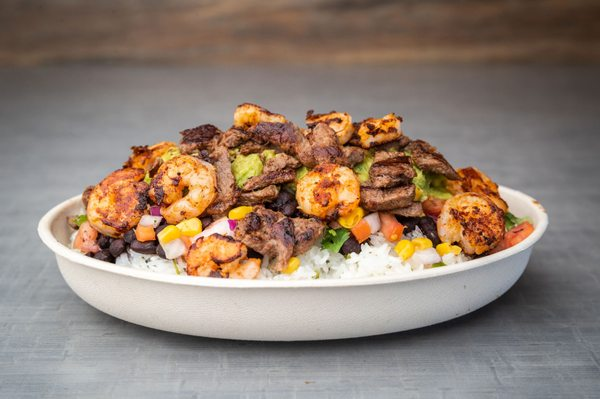sushi: (35, 100, 574, 346)
